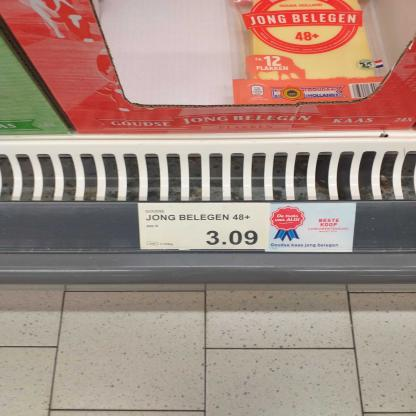prtg: (138, 204, 272, 250)
